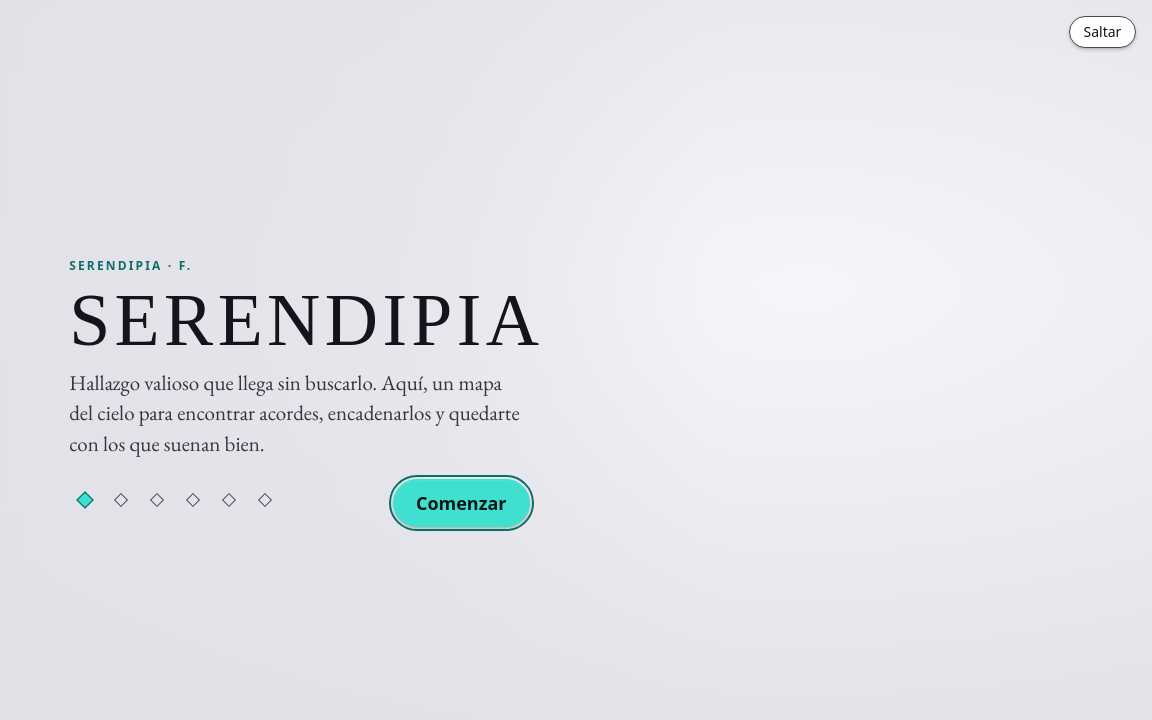
welcome › can be skipped with Escape and shown again from Ajustes
Press Escape in the dialog
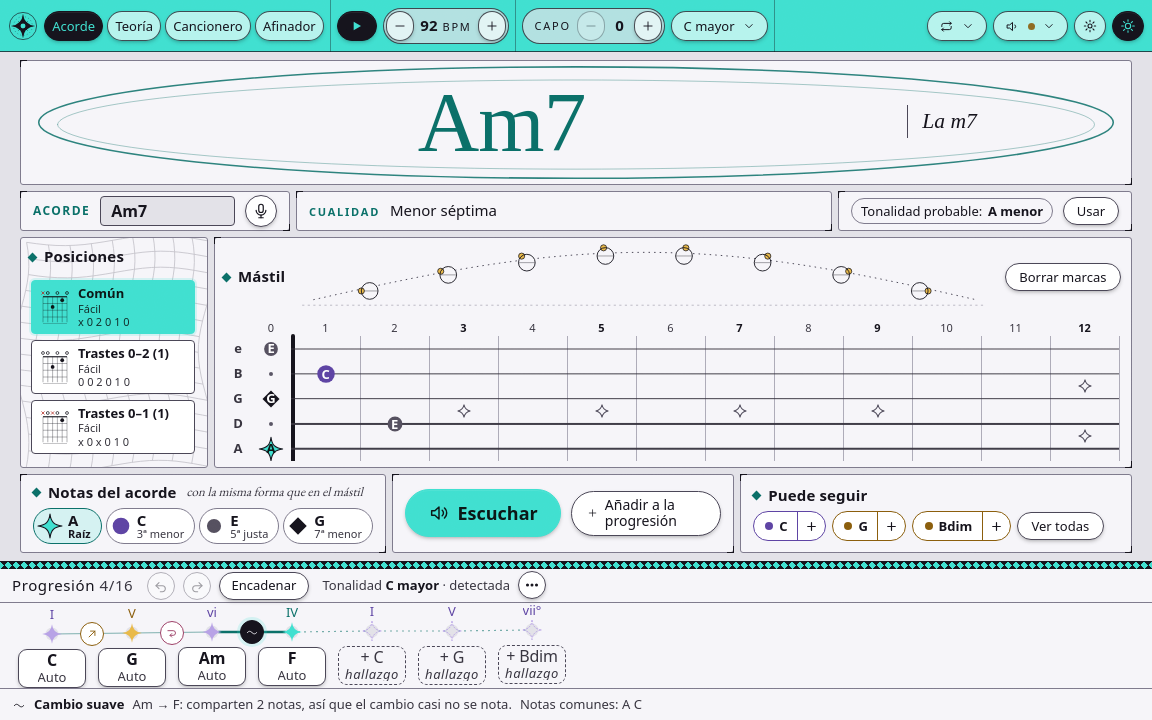
Click the button named "Ajustes": click(1090, 26) x1=1074 y1=11 x2=1106 y2=41
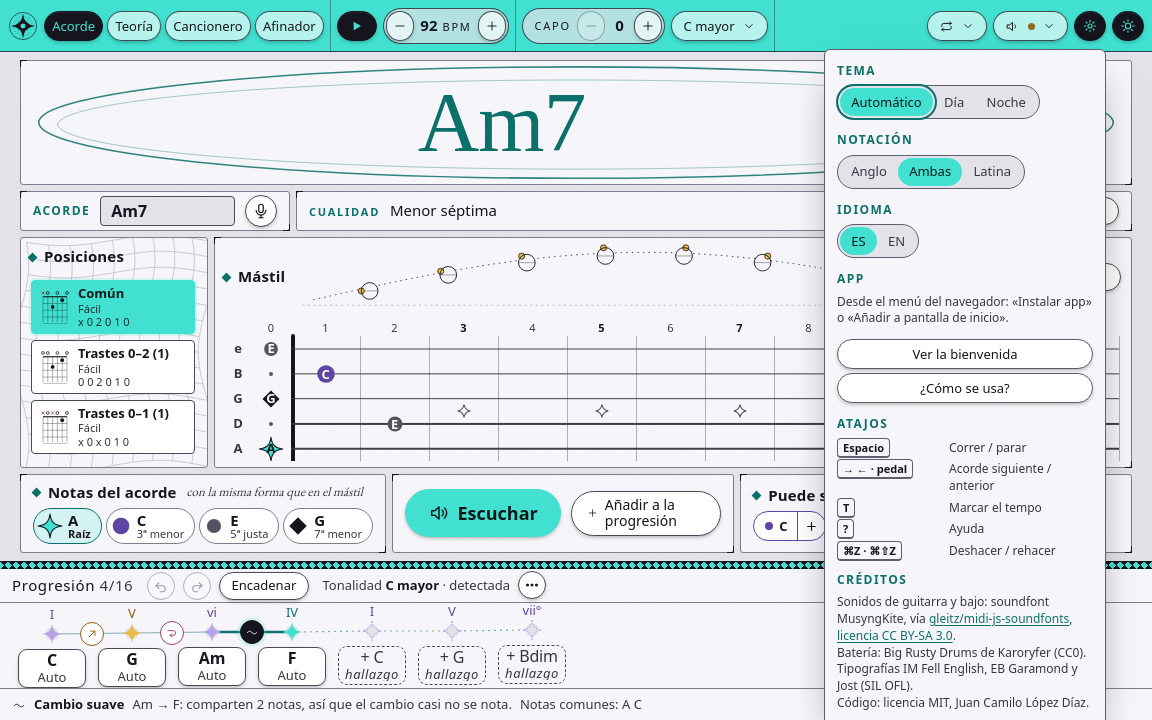
Click the button "Ver la bienvenida": click(965, 354) x1=837 y1=339 x2=1093 y2=369
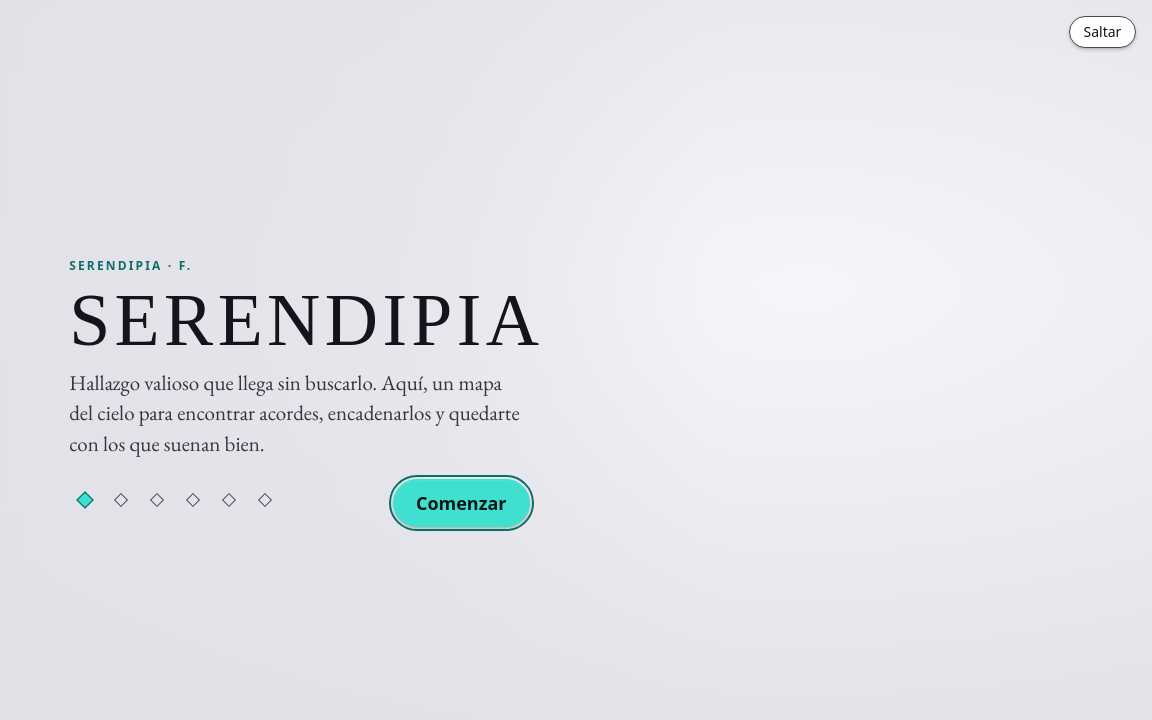
Check: the dialog named "Bienvenida a SERENDIPIA" is shown
